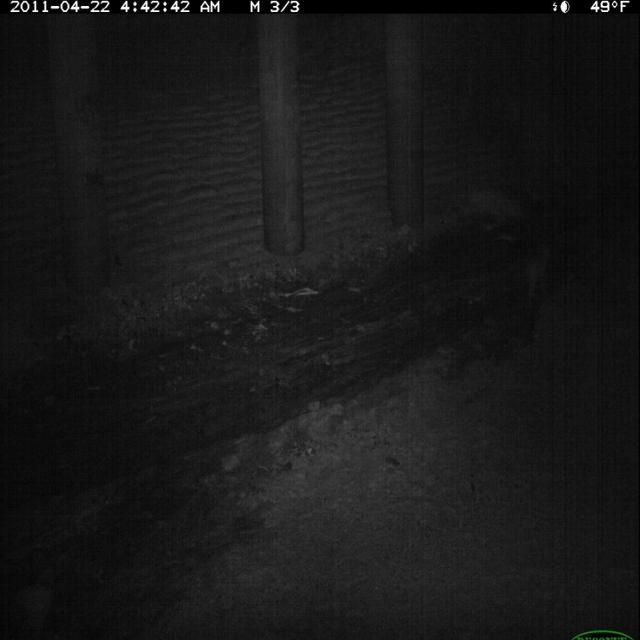bobcat: (523, 240, 554, 305)
